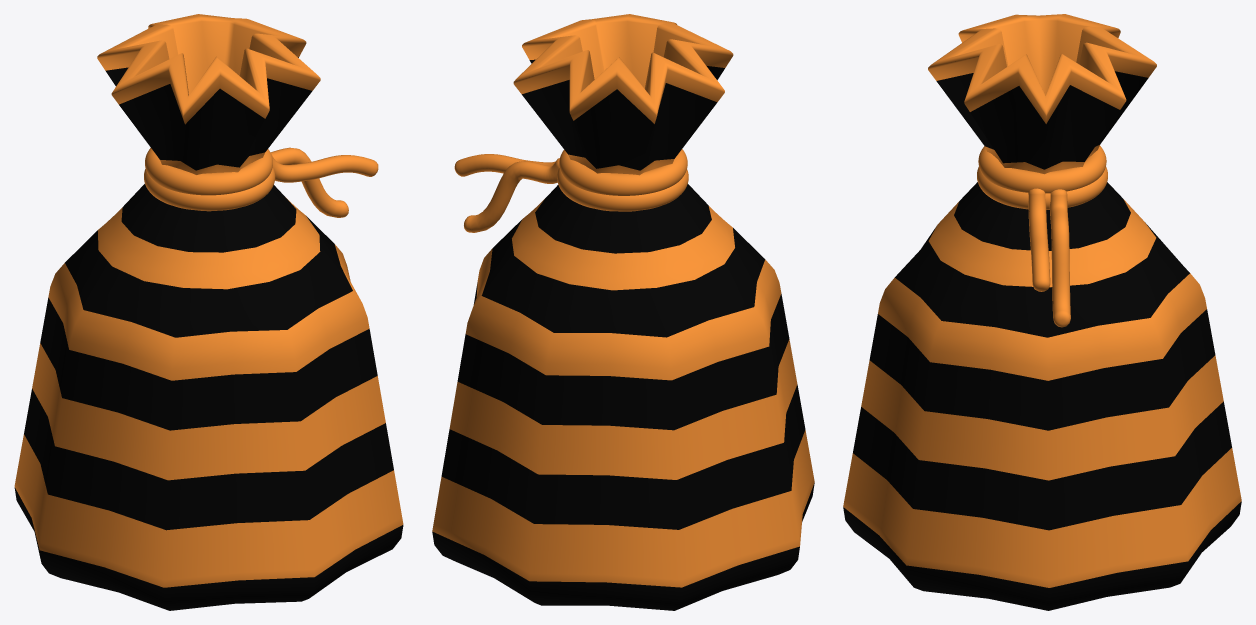
Rendered from Trash_Visual.fbx.
3 renders of one model, left to right at view 1: azimuth 30°, elevation 25°; view 2: azimuth 150°, elevation 25°; view 3: azimuth 270°, elevation 25°, orthographic.
Visible parts, largest first — view 1: BezierCurve.008; view 2: BezierCurve.008; view 3: BezierCurve.008.
Part boxes in pixels (x1=…): BezierCurve.008: x1=14, y1=14, x2=403, y2=610; BezierCurve.008: x1=432, y1=14, x2=814, y2=610; BezierCurve.008: x1=843, y1=14, x2=1241, y2=610.
Size of the model in its own units: 24.48 by 34.16 by 24.48.
